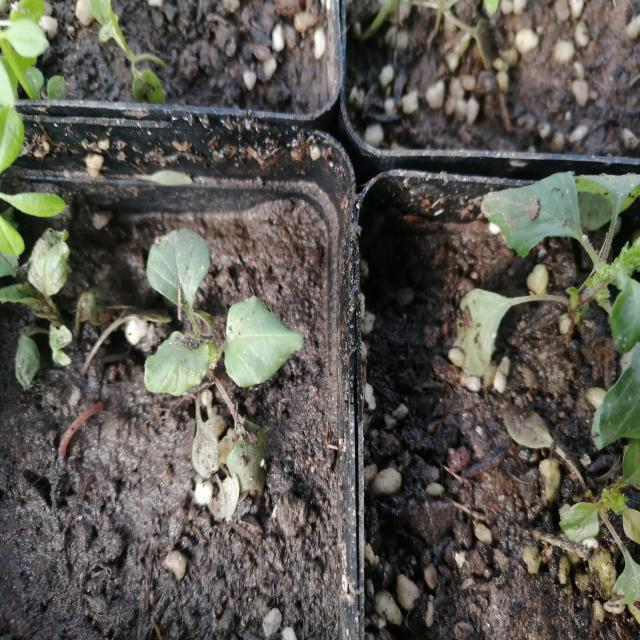pigweed: (132, 234, 295, 432)
